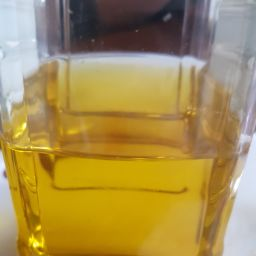Olive oil: (2, 112, 245, 256), (41, 172, 197, 244)
